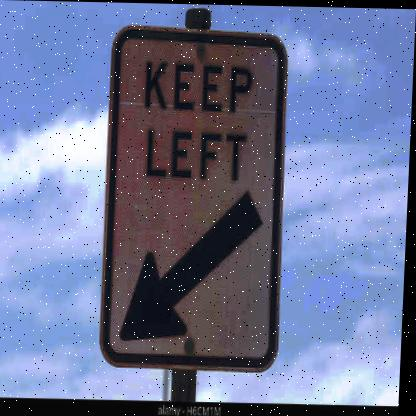Keep left: (100, 20, 293, 367)
